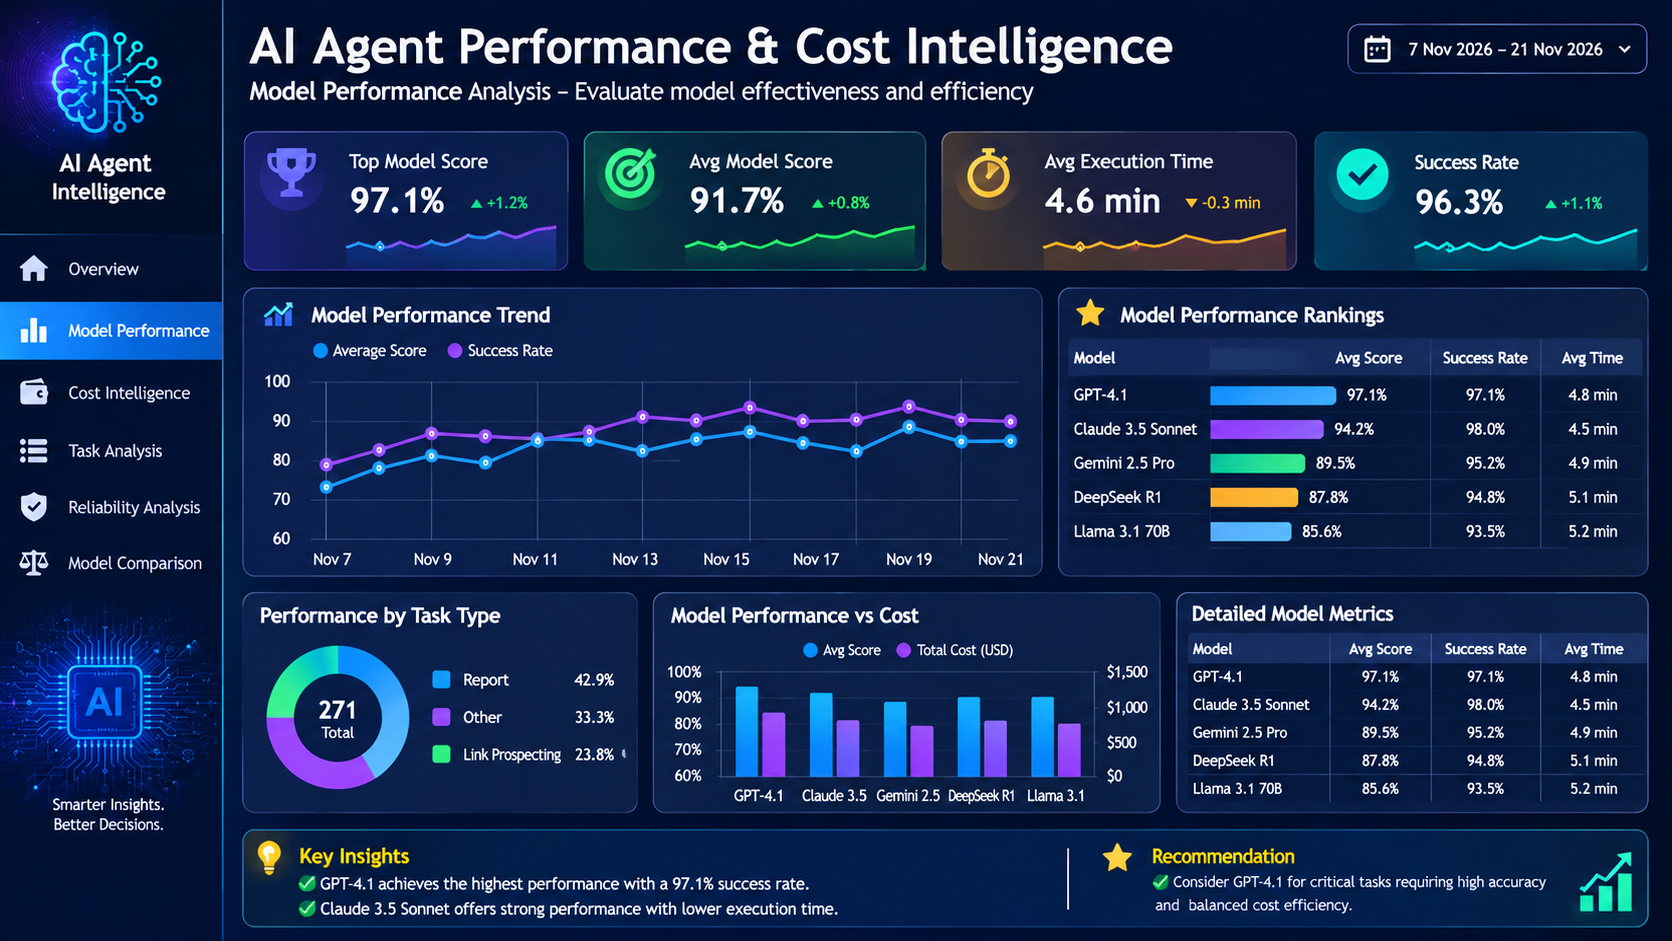

The page's visual inventory and layout, read from the dashboard file:
{"tool":"powerbi","page":{"name":"Model Performance","canvas":[1920,1080],"ordinal":1},"visuals":[{"type":"image","box":[10.3,0,1910.1,1080.6],"z":0}]}

Visuals, with their boxes in screenshot pixels (x1, y1, x2, y2), scaled from the page's 1920x1080 canvas onto the 1672x941 screenshot:
image: crop(9, 0, 1671, 940)
